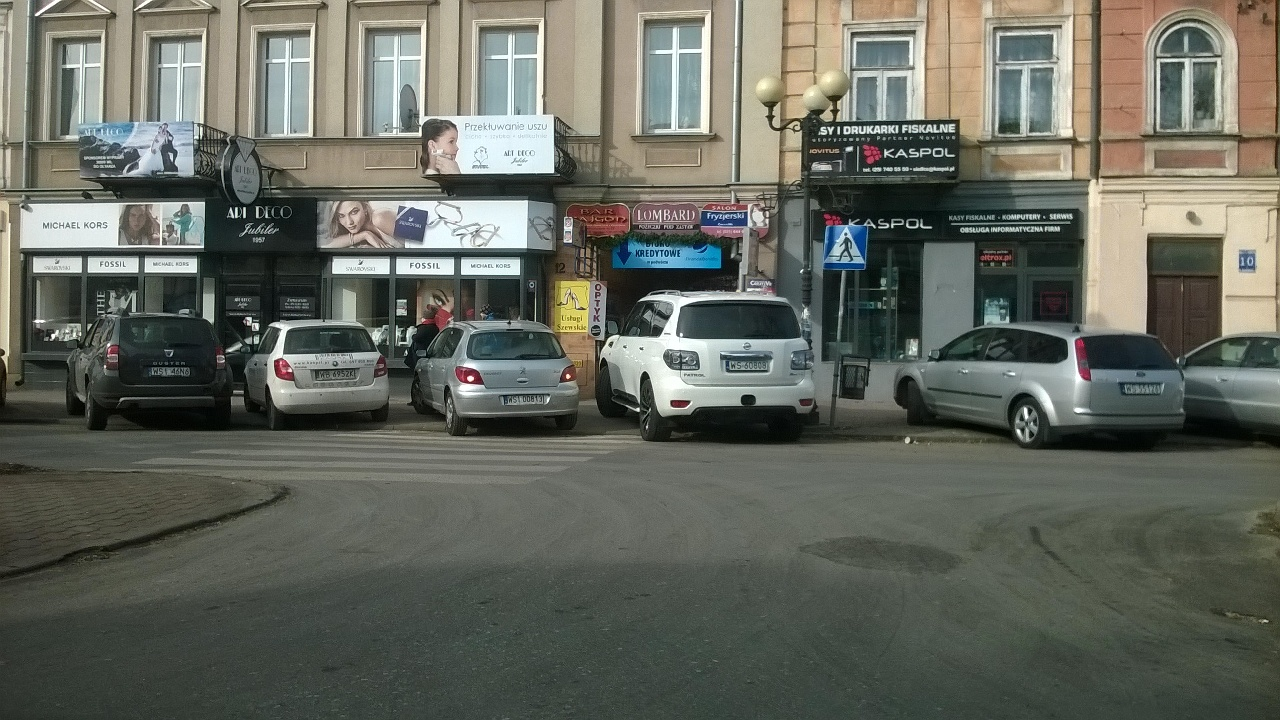D6: (819, 222, 881, 276)
